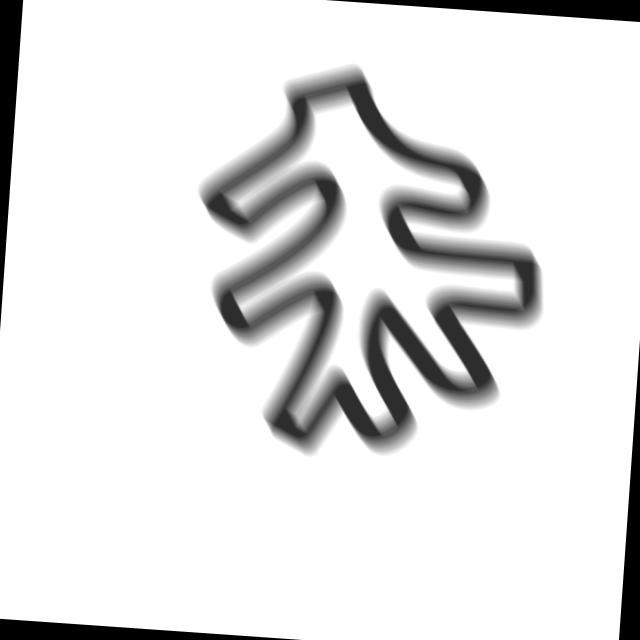coral: (172, 49, 565, 481)
